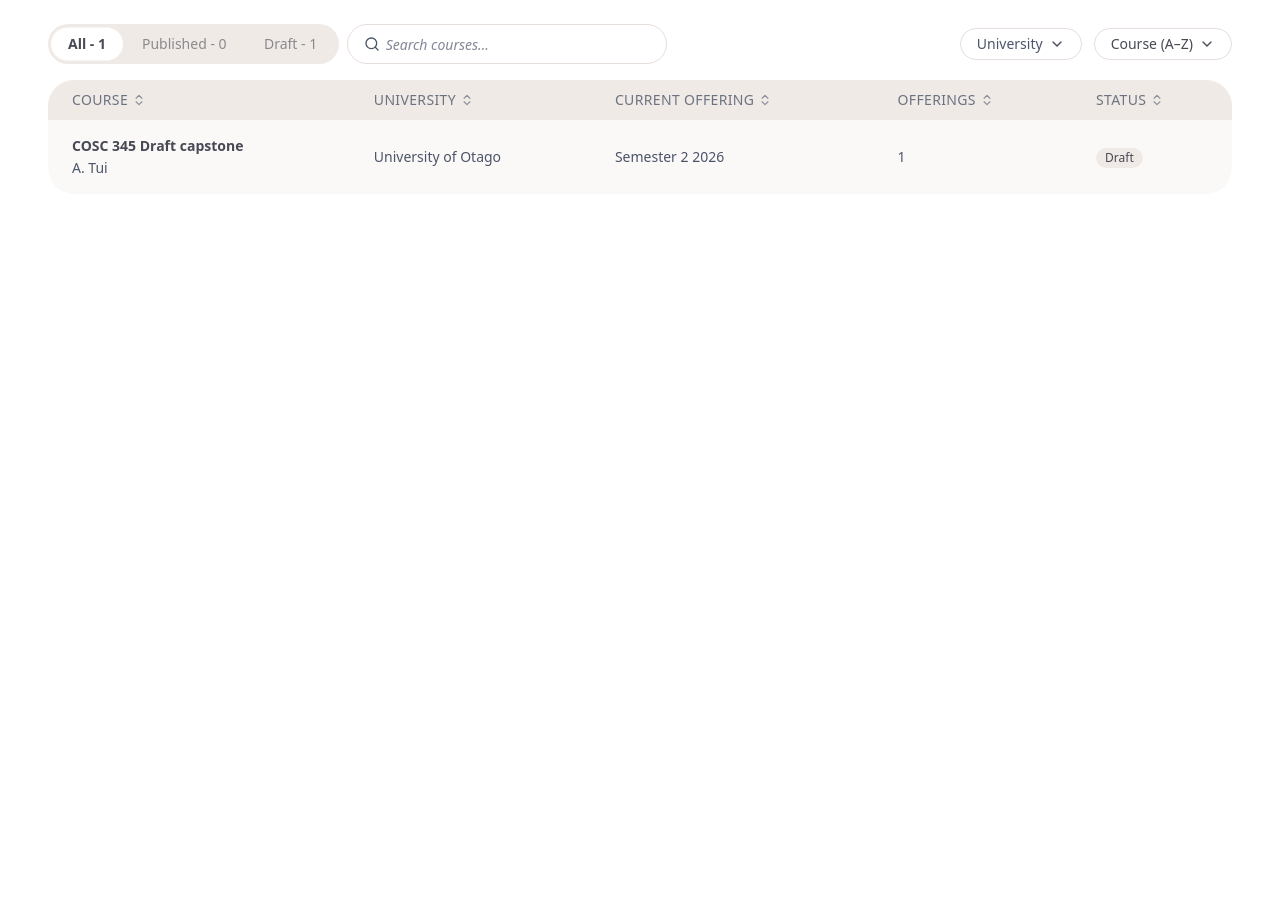
Test: CoursesListClient drafts › keeps the dialog open with the error when saving fails
Click the button named "COSC 345 Draft capstoneA. Tui" at coordinates (199, 157), box [72,136,326,178]
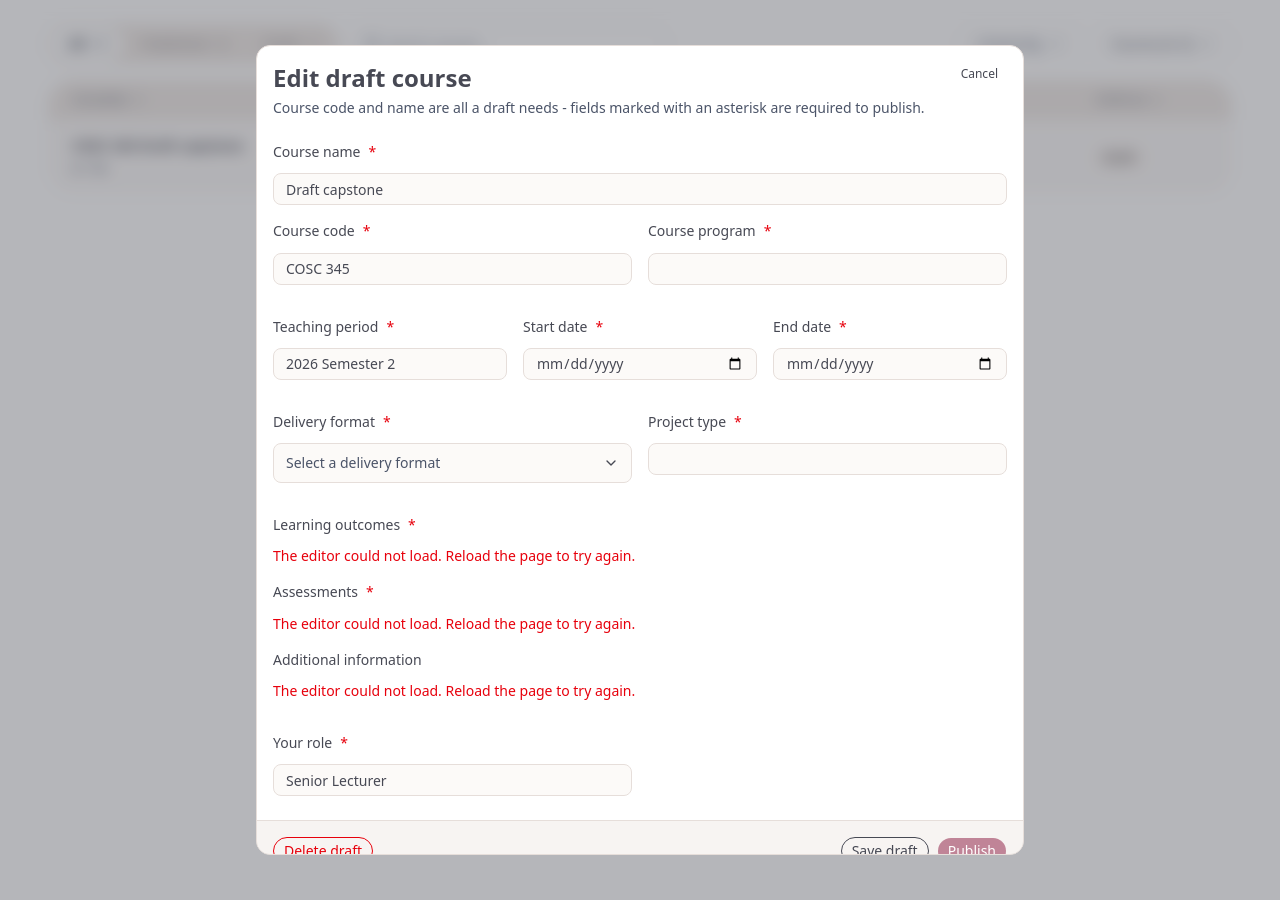
Click the button "Save draft" at coordinates (885, 851), box [841,837,929,865]
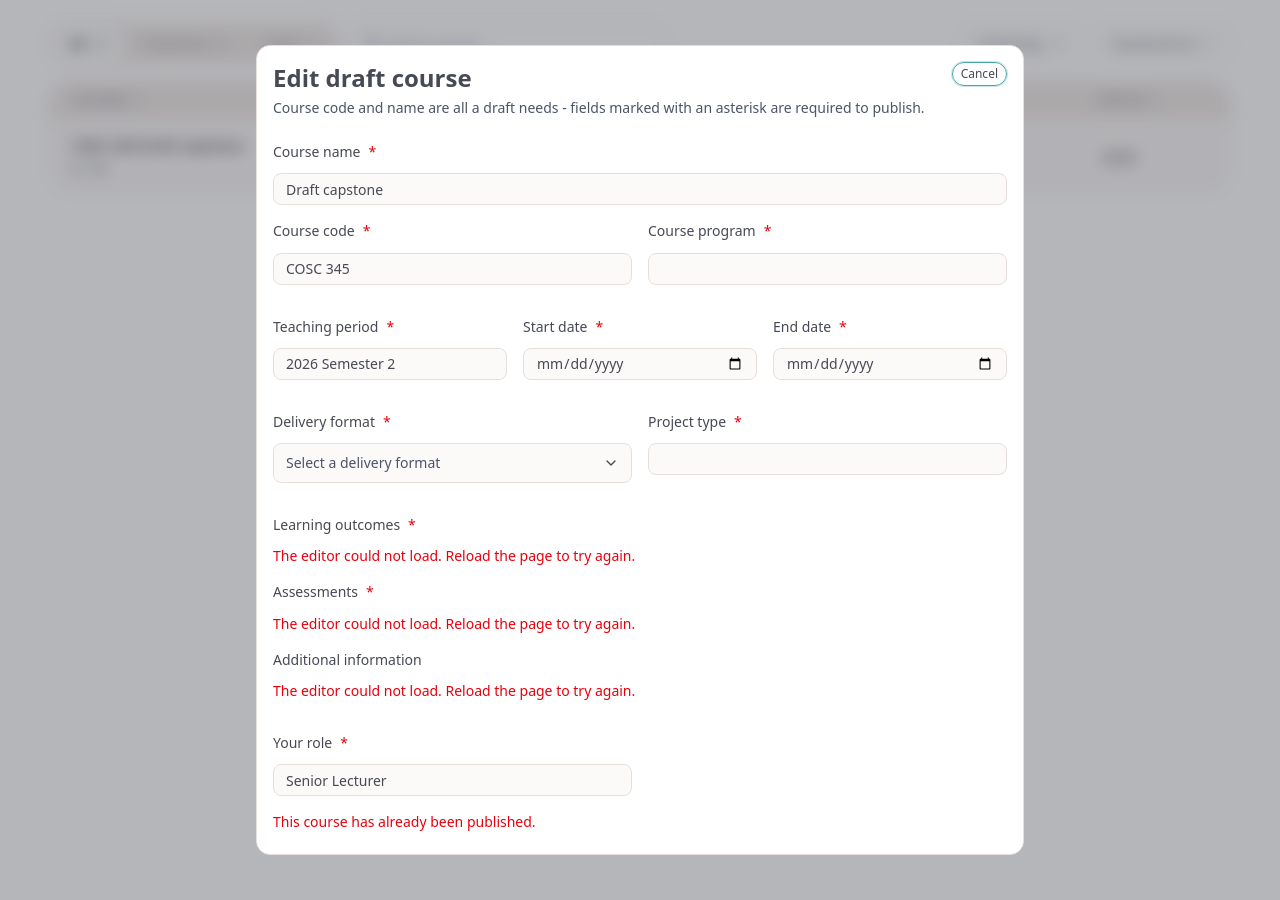
Check: the dialog "Edit draft course" is shown, box [256,45,1024,855]
Check: the text "This course has already been published." is shown, box [273,812,536,831]
